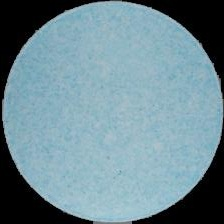51079-953: (0, 0, 224, 224)
